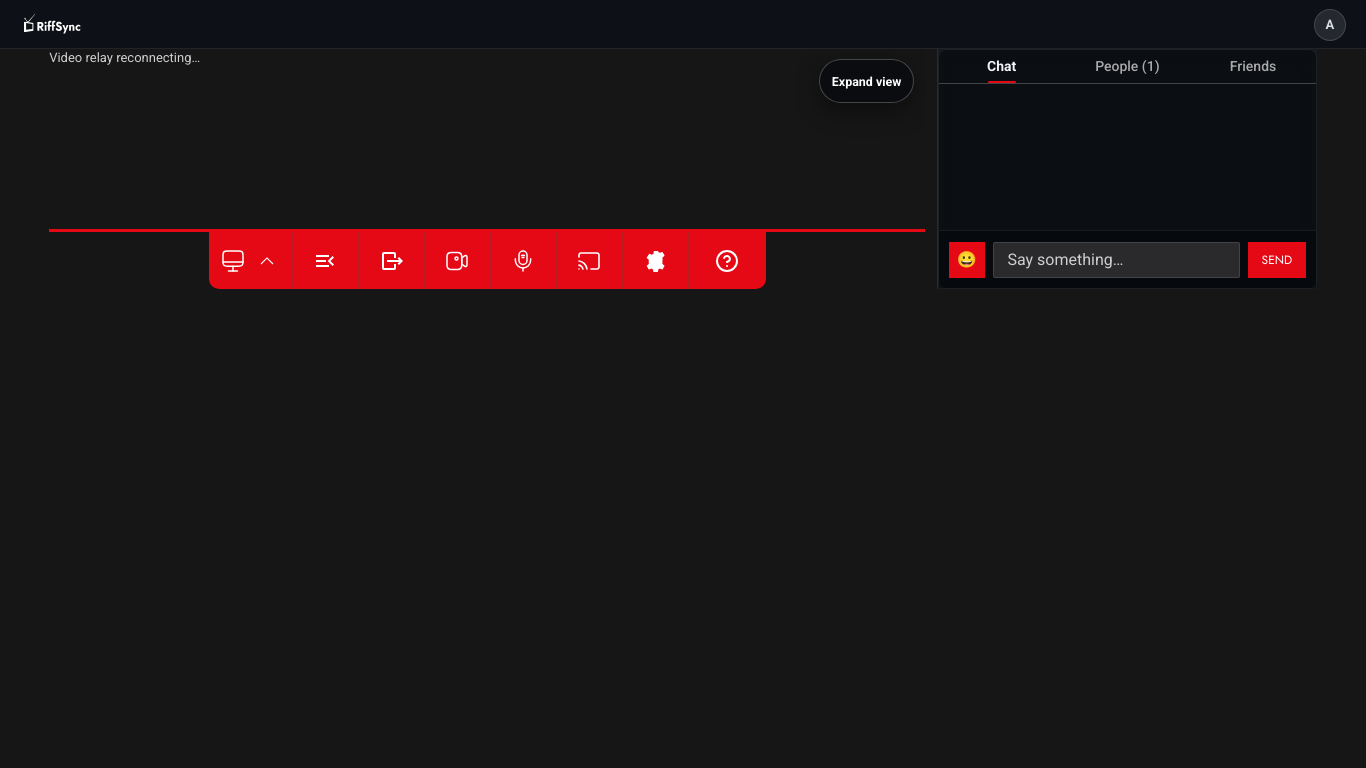
Test: RoomPage host theater chrome › does not toast or keep optimistic visibility on failed PATCH
Expected: the element with class "riffsync-host-theater-bar" is shown, [49, 229, 925, 289]
Click the button named "Settings": coordinates (654, 260) [620, 232, 686, 289]
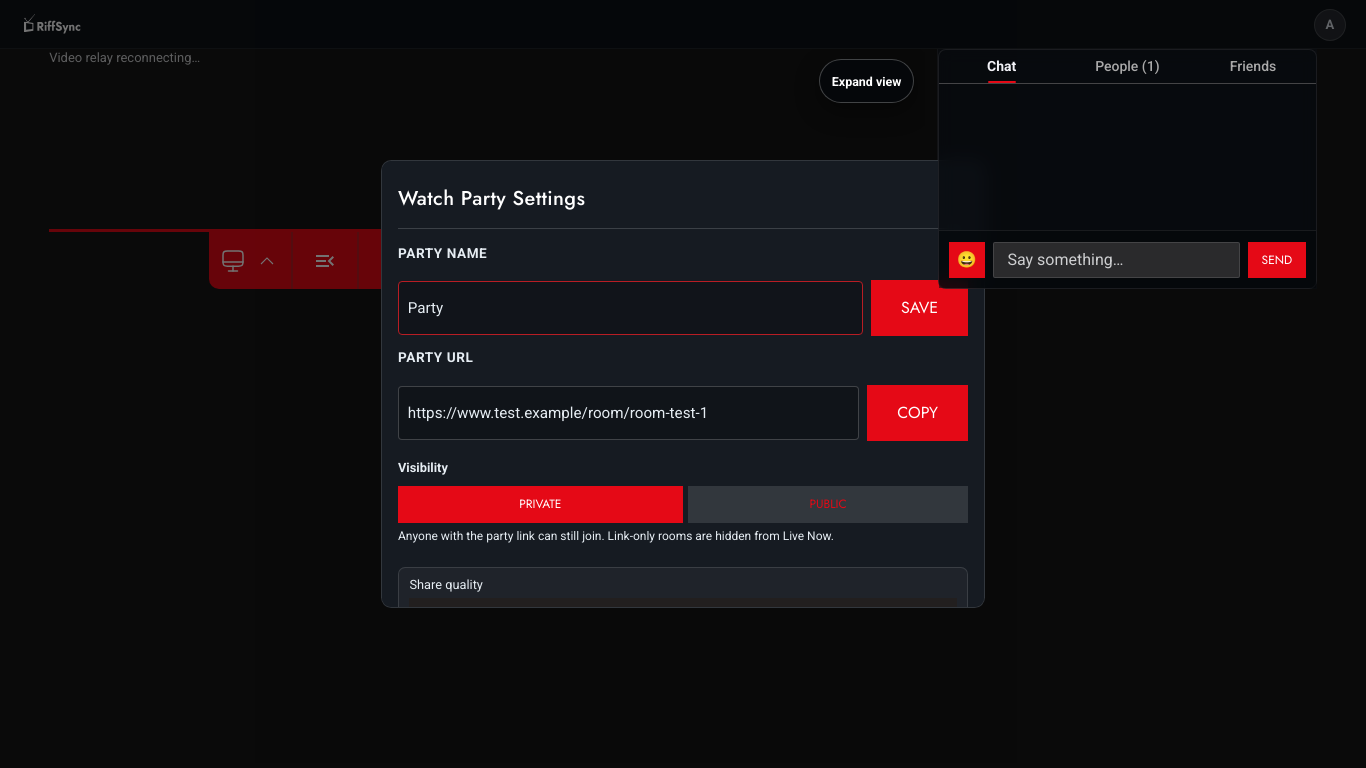
Click the radio button labelled "Private": coordinates (540, 504) [398, 486, 683, 523]
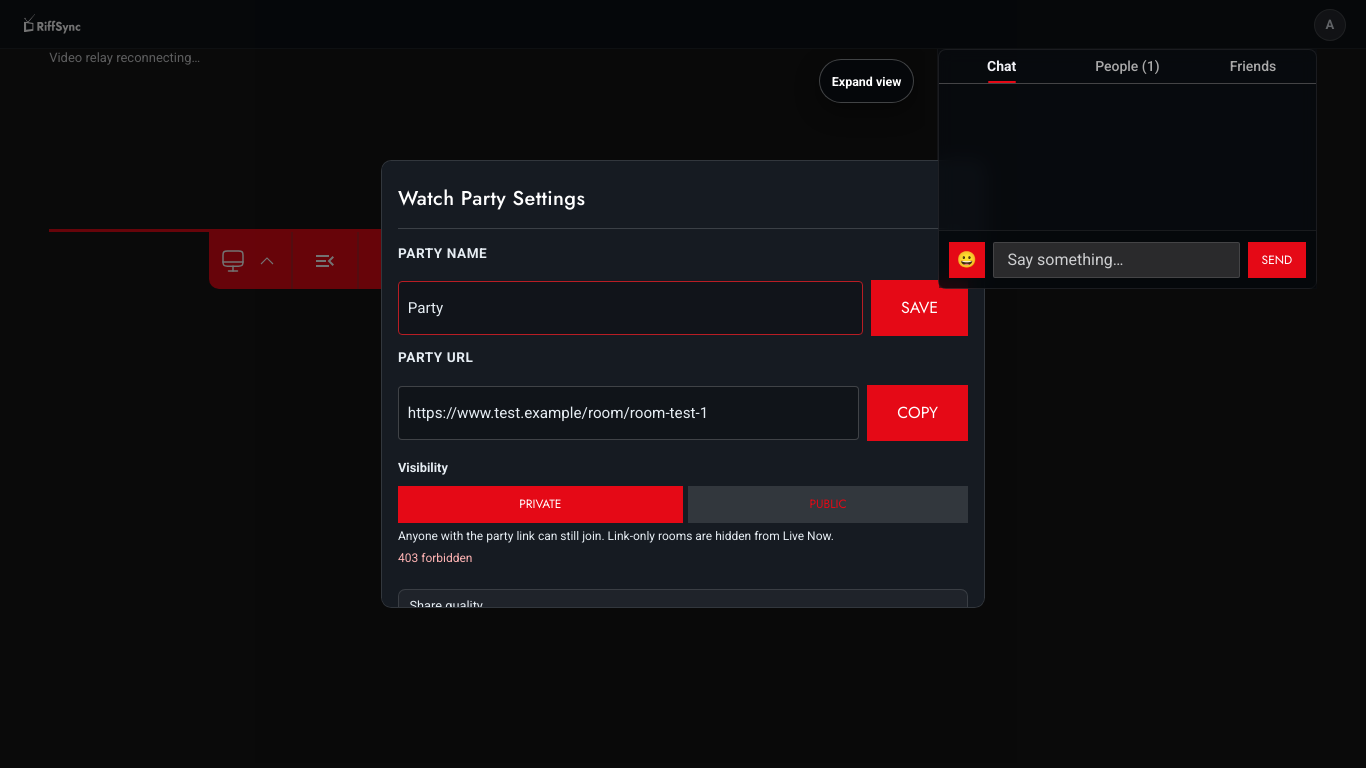
Expected: the radio button labelled "Public" is shown, [688, 486, 968, 523]
Expected: the message "403 forbidden" is shown, [398, 551, 472, 565]
